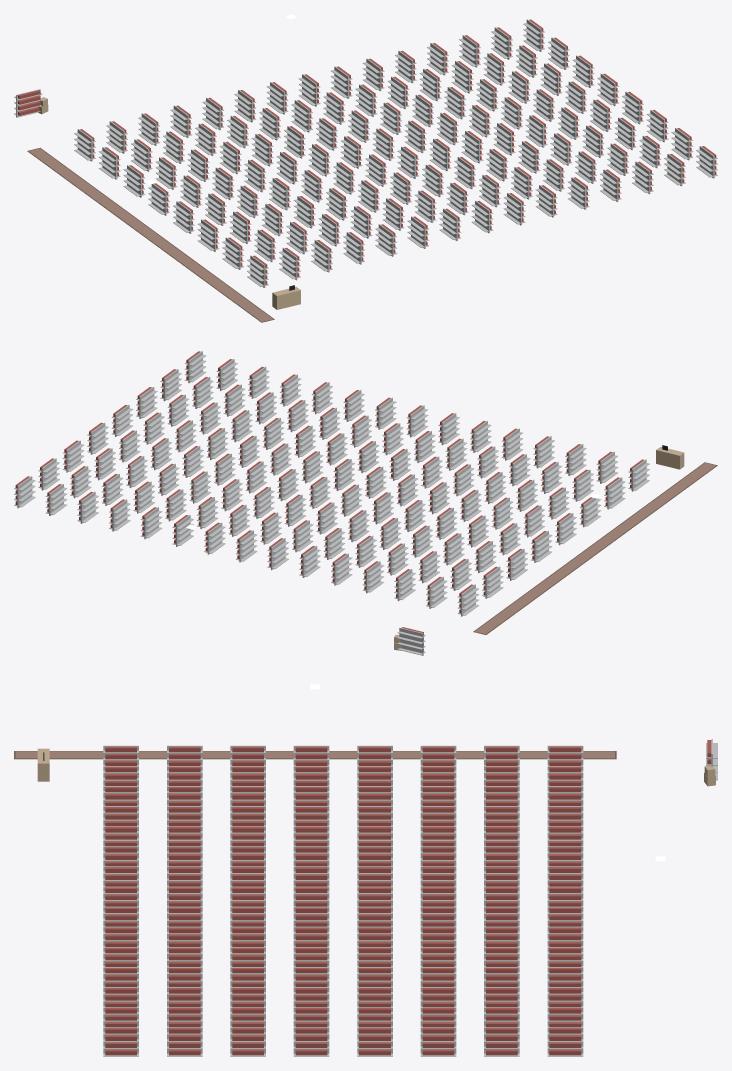
The model's file is fine-s0.glb.
3 views of the same model, one above another, from view 1: azimuth 30°, elevation 25°; view 2: azimuth 150°, elevation 25°; view 3: azimuth 270°, elevation 25° (orthographic). The views are drawn at different scales.
Visible parts, largest first — view 1: soft-s0, shelving.000, shop-counter.000, shelf.011, shelf.045, shelf.058, shelf.099, shelf.014, shelf.016, shelf.050, shelf.006, shelf.015 (+111 smaller); view 2: soft-s0, shelving.000, shop-counter.000, shelf.069, shelf.076, shelf.088, shelf.105, shelf.006, shelf.018, shelf.064, shelf.081, shelf.001 (+82 smaller); view 3: soft-s0, shelf.112, shelf.114, shelf.116, shelf.113, shelf.115, shelf.117, shelf.118, shelf.119, shelf.048, shelf.050, shelf.052 (+109 smaller).
Boxes of the visible parts, bbox=[...] form: soft-s0: bbox=[27, 147, 274, 322]; shelving.000: bbox=[14, 89, 42, 117]; shop-counter.000: bbox=[272, 285, 300, 309]; shelf.011: bbox=[180, 175, 202, 207]; shelf.045: bbox=[358, 180, 379, 212]; shelf.058: bbox=[348, 110, 369, 142]; shelf.099: bbox=[533, 89, 554, 121]; shelf.014: bbox=[254, 229, 276, 262]; shelf.016: bbox=[138, 113, 160, 145]; shelf.050: bbox=[316, 118, 337, 150]; shelf.006: bbox=[222, 237, 244, 269]; shelf.015: bbox=[279, 247, 300, 280]; soft-s0: bbox=[473, 462, 717, 634]; shelving.000: bbox=[397, 627, 425, 655]; shop-counter.000: bbox=[656, 445, 684, 469]; shelf.069: bbox=[326, 433, 347, 465]; shelf.076: bbox=[270, 443, 291, 475]; shelf.088: bbox=[109, 499, 130, 531]; shelf.105: bbox=[70, 466, 91, 498]; shelf.006: bbox=[604, 477, 625, 509]; shelf.018: bbox=[443, 533, 464, 565]; shelf.064: bbox=[204, 522, 225, 554]; shelf.081: bbox=[165, 489, 186, 521]; shelf.001: bbox=[482, 566, 503, 598]; soft-s0: bbox=[14, 751, 616, 759]; shelf.112: bbox=[547, 1027, 583, 1056]; shelf.114: bbox=[420, 1027, 456, 1056]; shelf.116: bbox=[293, 1027, 329, 1056]; shelf.113: bbox=[484, 1027, 519, 1056]; shelf.115: bbox=[357, 1027, 392, 1056]; shelf.117: bbox=[230, 1027, 265, 1056]; shelf.118: bbox=[167, 1027, 202, 1056]; shelf.119: bbox=[103, 1027, 138, 1056]; shelf.048: bbox=[547, 866, 583, 886]; shelf.050: bbox=[420, 866, 456, 886]; shelf.052: bbox=[293, 866, 329, 886].
Size of the model in its own units: 36.74 by 3.83 by 35.51.
